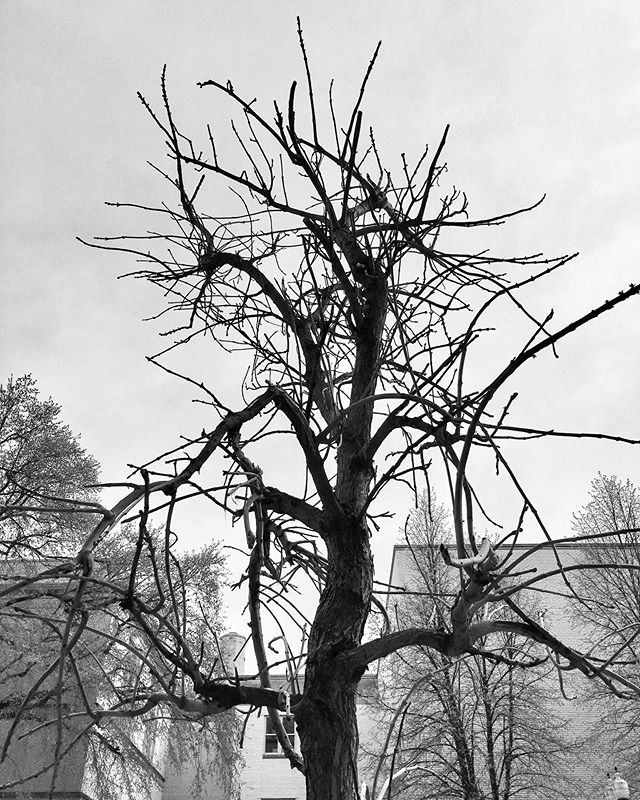building: (394, 560, 640, 800), (1, 544, 172, 800)
sky: (1, 1, 610, 426)
tree: (137, 104, 553, 777)
